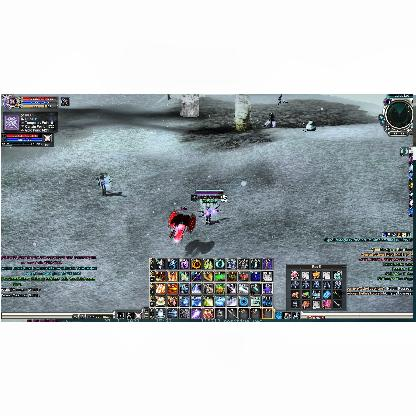caliana: (95, 173, 111, 194), (264, 112, 276, 127), (276, 94, 288, 104)
